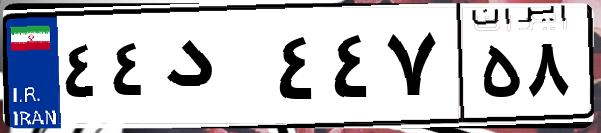4: (270, 28, 330, 110), (330, 28, 385, 110), (57, 26, 110, 100), (110, 28, 158, 98)
5: (475, 38, 525, 113)
7: (385, 28, 445, 110)
8: (525, 38, 570, 115)
د: (158, 20, 270, 120)
